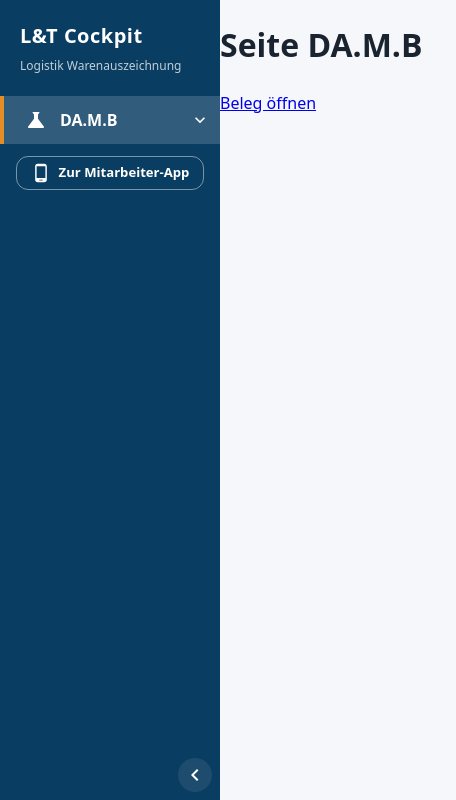
AppShell — DA.M.B-Gruppe in der Nav-Rail › im DA.M.B sind die Reiter eingeklappt; ausgeklappt sind sie sichtbar und navigierbar
Check: the link "Tagescockpit" is not shown
Check: the link "Digitale Ablagen" is not shown
Click the button named "Reiter ausklappen": (200, 120) [188,108,212,132]
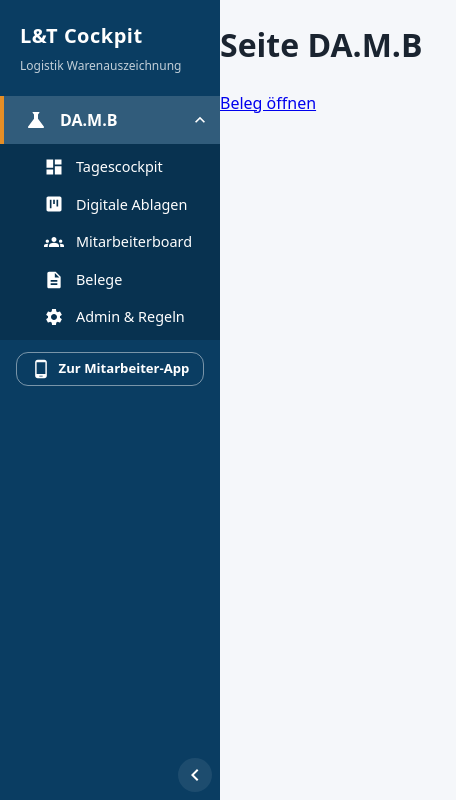
Check: the link "Tagescockpit" is shown, box [44,157,163,177]
Check: the link "Digitale Ablagen" is shown, box [44,194,187,214]
Check: the link "Mitarbeiterboard" is shown, box [44,232,192,252]
Click the link "Belege": (83, 280) [44,270,122,290]
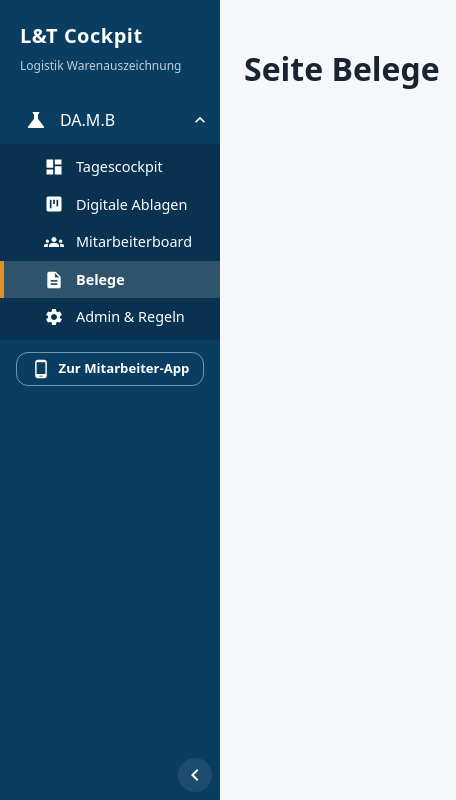
Check: the heading "Seite Belege" is shown, box [244,47,440,90]
Click the button named "Reiter einklappen": (200, 120) [188,108,212,132]
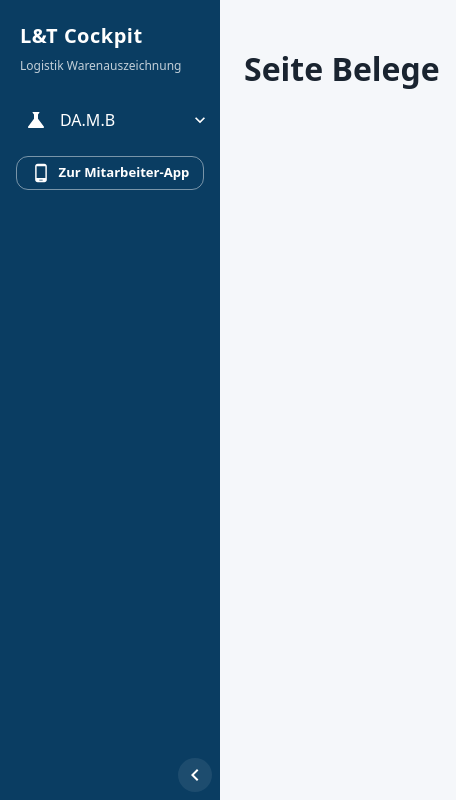
Check: the heading "Seite Belege" is shown, box [244,47,440,90]
Check: the link "Tagescockpit" is gone
